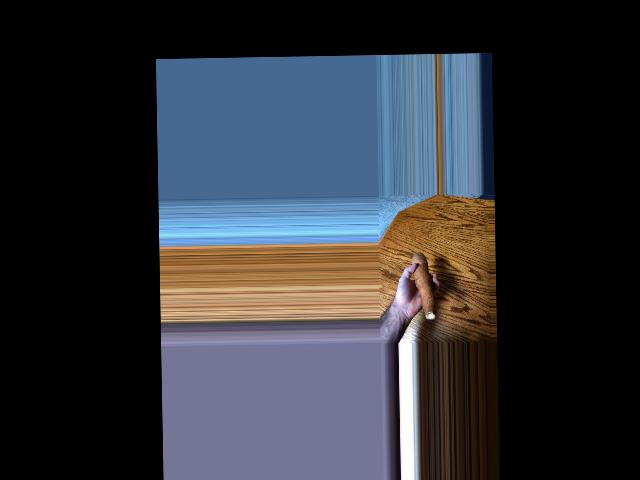sweet_potato: (414, 249, 437, 325)
